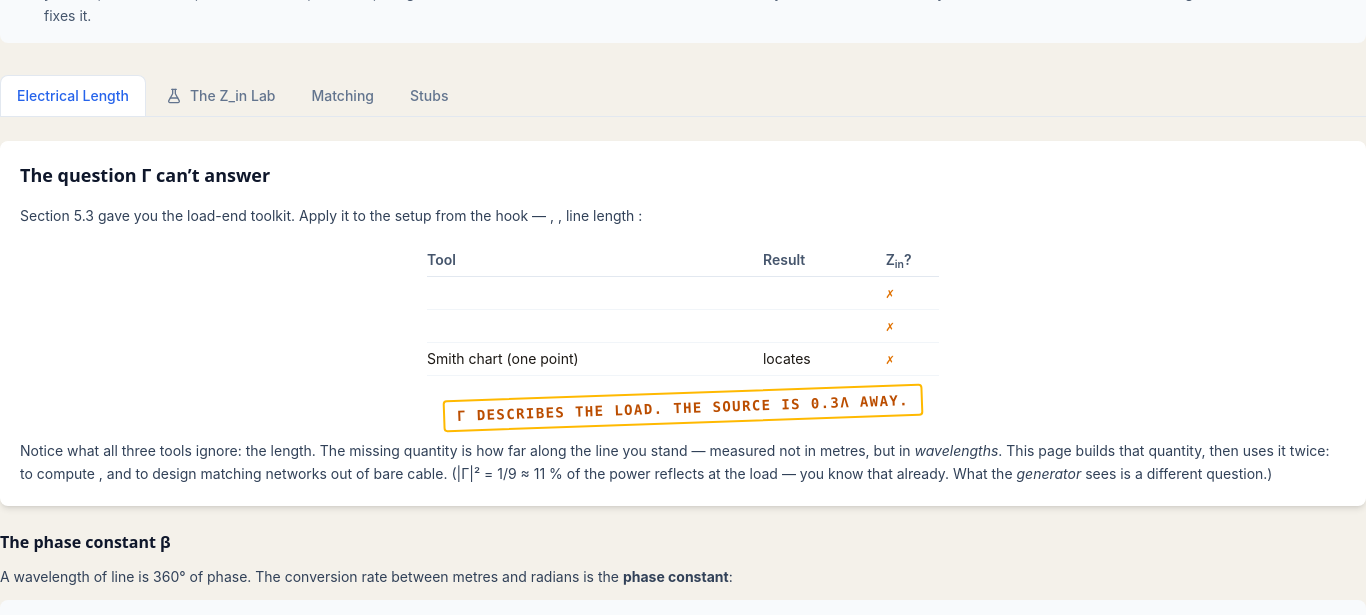
Test: LineImpedance — section 5.4 page › blocks the bench behind the gate with no Skip control, and unlock survives tab switches
Note: Open the Z_in Lab tab: gate question visible, sim absent, no Skip rendered.
Click the tab "The Z_in Lab" at (221, 96), box [150, 75, 292, 116]
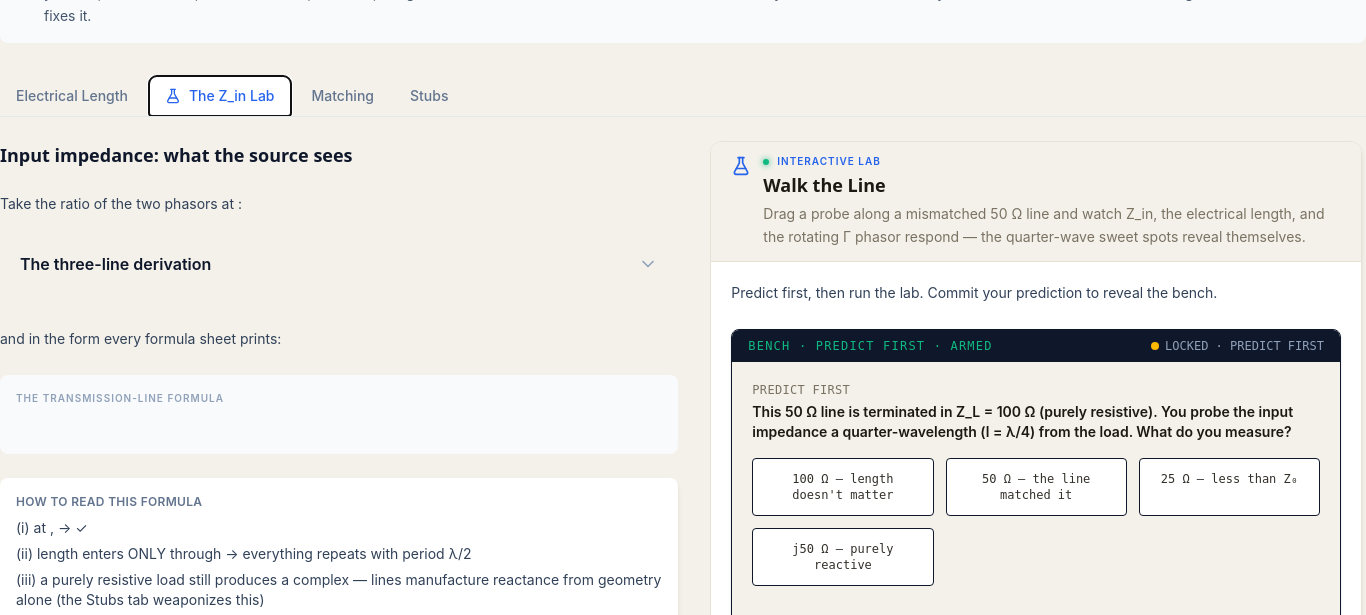
Expected: the slider labelled "distance from load" is not shown
Expected: the text "quarter-wavelength" is shown, [752, 402, 1293, 440]
Note: Commit the prediction → the bench is revealed.
Click the button "25 Ω — less than Z₀" at (1229, 486), box [1139, 458, 1320, 516]
(page scrolled)
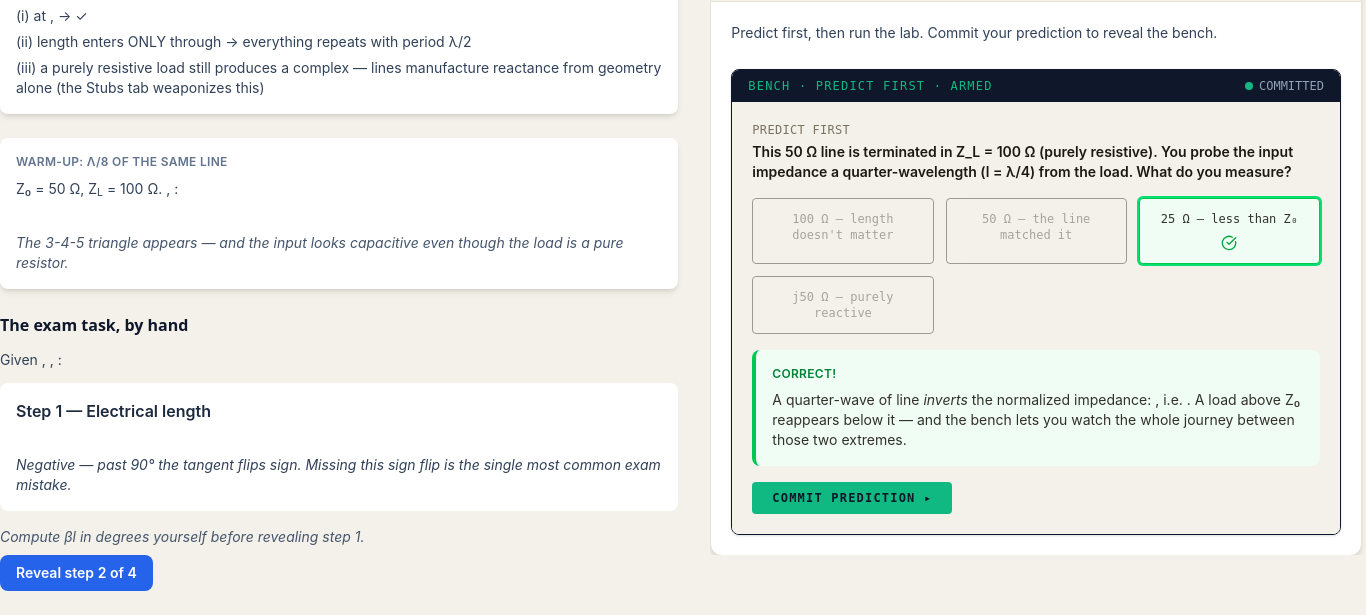
Click the button "COMMIT PREDICTION ▸" at (852, 497), box [752, 481, 952, 513]
(page scrolled)
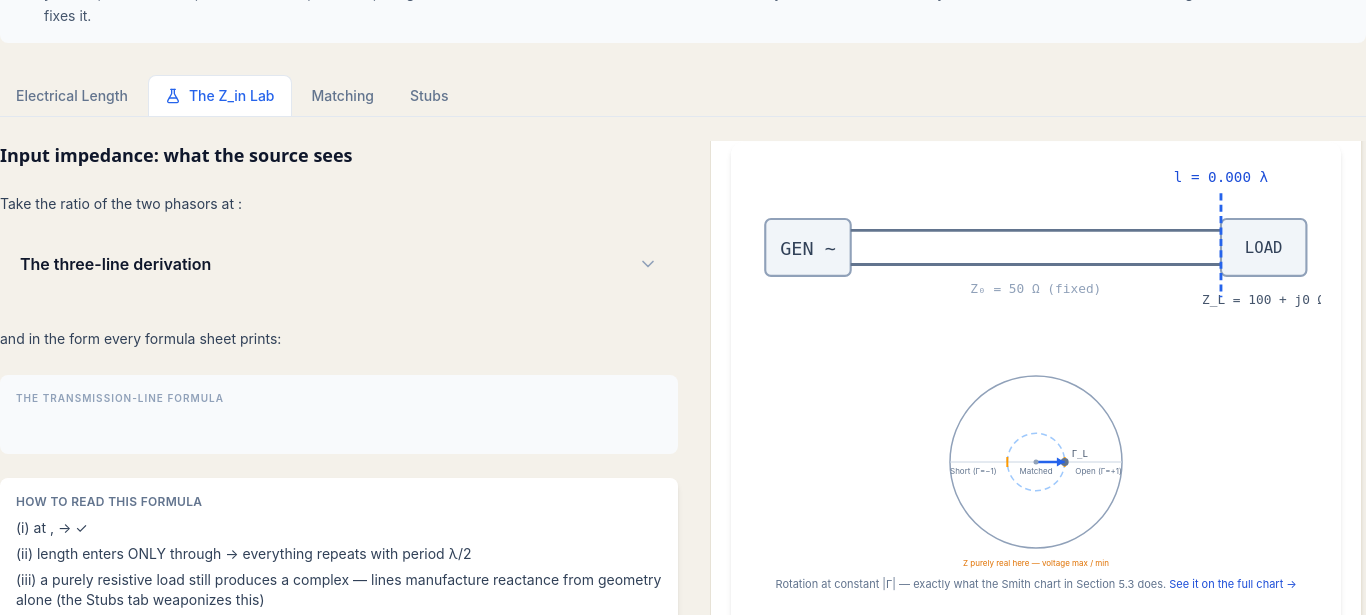
Note: Switch away and back — the lifted unlock state must survive the remount.
Click the tab "Electrical Length" at (72, 96), box [0, 75, 144, 116]
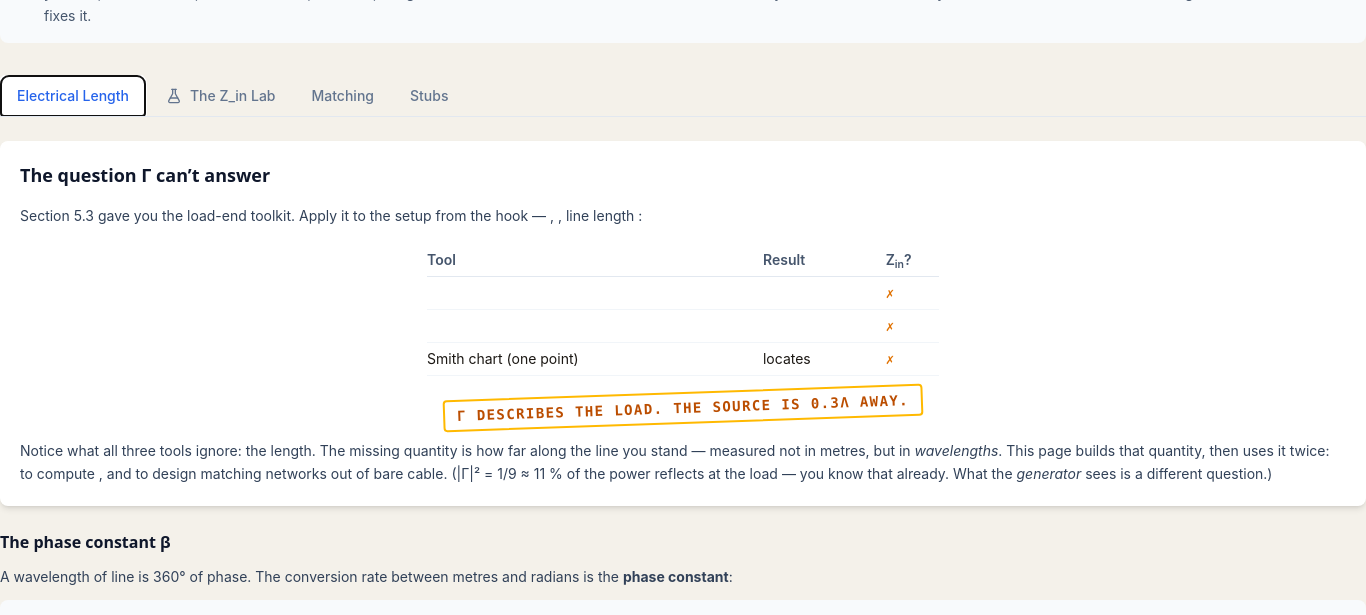
Click the tab "The Z_in Lab" at (221, 96), box [150, 75, 292, 116]
(page scrolled)
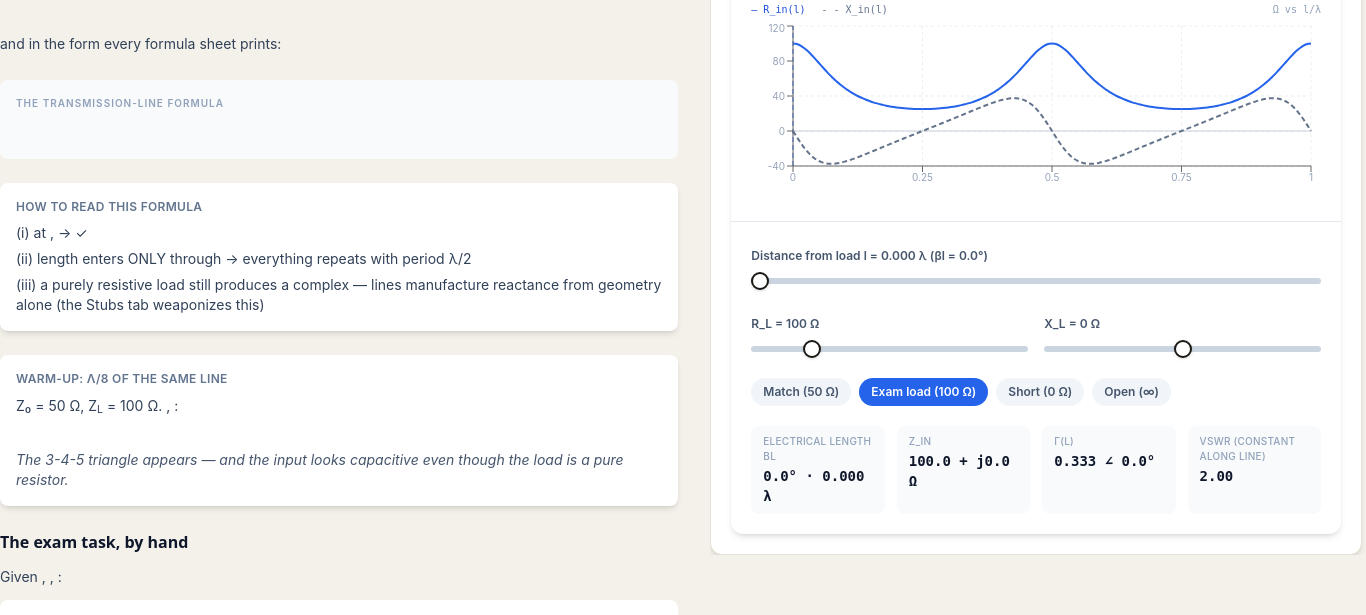
Expected: the slider labelled "Distance from load l = 0.000 λ (βl = 0.0°)" is shown, [751, 278, 1321, 284]
